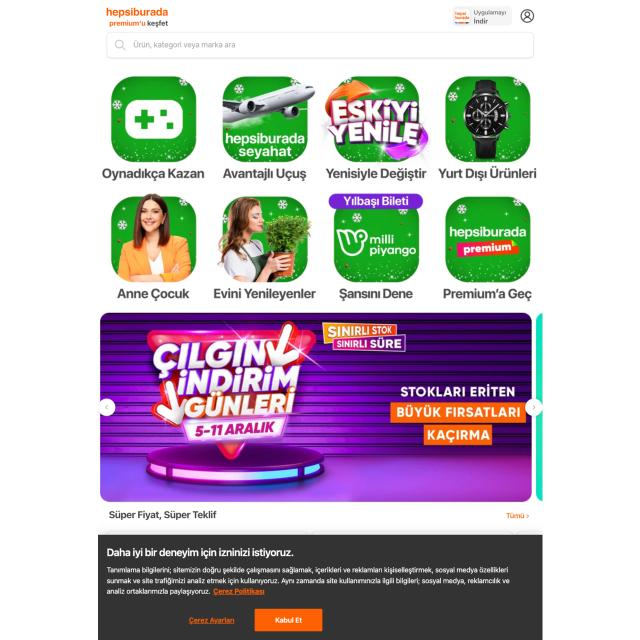input: (106, 32, 534, 58)
logo: (104, 5, 171, 29)
navigation: (109, 75, 535, 305)
